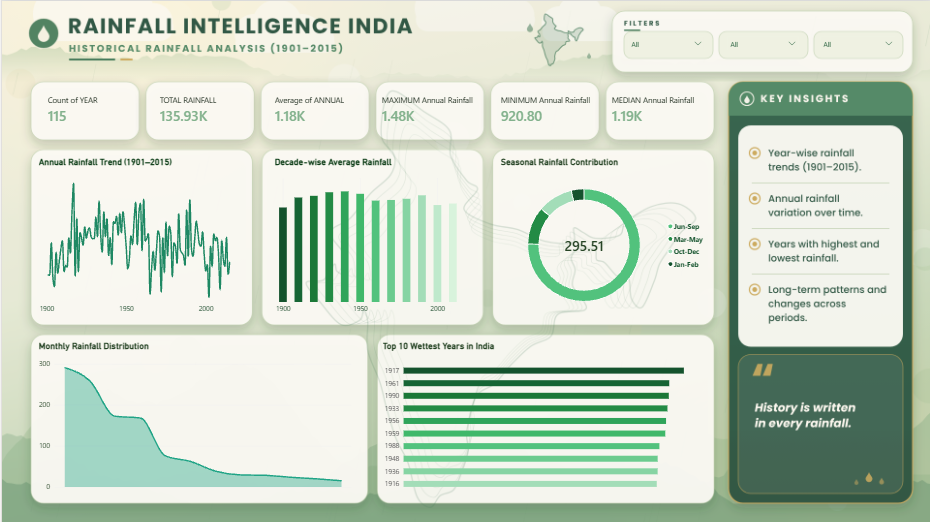

The page's visual inventory and layout, read from the dashboard file:
{"tool":"powerbi","page":{"name":"Historical Rainfall Intelligence","canvas":[1920,1080],"ordinal":1},"visuals":[{"type":"cardVisual","fields":{"Data":["Count(Historical_Rainfall_India.YEAR)"]},"box":[78.1,166.3,191.5,115.9],"z":0},{"type":"cardVisual","fields":{"Data":["Sum(Historical_Rainfall_India.ANNUAL)"]},"box":[309.9,166.3,191.5,115.9],"z":1000},{"type":"cardVisual","fields":{"Data":["Avg(Historical_Rainfall_India.ANNUAL)"]},"box":[546.8,166.3,191.5,115.9],"z":2000},{"type":"cardVisual","fields":{"Data":["Max(Historical_Rainfall_India.ANNUAL)"]},"box":[768.5,166.3,226.8,115.9],"z":3000},{"type":"cardVisual","fields":{"Data":["Min(Historical_Rainfall_India.ANNUAL)"]},"box":[1012.9,166.3,229.3,115.9],"z":4000},{"type":"cardVisual","fields":{"Data":["Median(Historical_Rainfall_India.ANNUAL)"]},"box":[1242.2,166.3,229.3,115.9],"z":5000},{"type":"lineChart","title":"Annual Rainfall Trend (1901–2015)","fields":{"Category":["Historical_Rainfall_India.YEAR"],"Y":["Avg(Historical_Rainfall_India.ANNUAL)"]},"box":[60.5,307.4,458.6,357.8],"z":6000},{"type":"clusteredColumnChart","title":"Decade-wise Average Rainfall","fields":{"Category":["Historical_Rainfall_India.Decade"],"Y":["Avg(Historical_Rainfall_India.ANNUAL)"]},"box":[546.8,307.4,448.5,357.8],"z":7000},{"type":"areaChart","title":"Monthly Rainfall Distribution","fields":{"Category":["Monthly_Rainfall.Month"],"Y":["Avg(Monthly_Rainfall.Monthly Rainfall)"]},"box":[60.5,687.9,677.8,342.7],"z":8000},{"type":"donutChart","title":"Seasonal Rainfall Contribution","fields":{"Category":["Seasonal_Rainfall.Season"],"Y":["Avg(Seasonal_Rainfall.Seasonal Rainfall)"]},"box":[1012.9,307.4,458.6,357.8],"z":9000},{"type":"clusteredBarChart","title":"Top 10 Wettest Years in India","fields":{"Category":["Seasonal_Rainfall.YEAR"],"Y":["Avg(Seasonal_Rainfall.ANNUAL)"]},"box":[771,687.9,700.5,342.7],"z":10000},{"type":"slicer","fields":{"Values":["Historical_Rainfall_India.YEAR"]},"box":[1287.6,68,166.3,52.9],"z":11000},{"type":"slicer","fields":{"Values":["Historical_Rainfall_India.Decade"]},"box":[1491.7,68,156.2,52.9],"z":12000},{"type":"slicer","fields":{"Values":["Monthly_Rainfall.Month"]},"box":[1685.7,68,163.8,52.9],"z":13000}]}

Visuals, with their boxes in screenshot pixels (x1, y1, x2, y2), scaled from the page's 1920x1080 canvas onto the 930x522 screenshot:
cardVisual - Count(Historical_Rainfall_India.YEAR): [x1=38, y1=80, x2=131, y2=136]
cardVisual - Sum(Historical_Rainfall_India.ANNUAL): [x1=150, y1=80, x2=243, y2=136]
cardVisual - Avg(Historical_Rainfall_India.ANNUAL): [x1=265, y1=80, x2=358, y2=136]
cardVisual - Max(Historical_Rainfall_India.ANNUAL): [x1=372, y1=80, x2=482, y2=136]
cardVisual - Min(Historical_Rainfall_India.ANNUAL): [x1=491, y1=80, x2=602, y2=136]
cardVisual - Median(Historical_Rainfall_India.ANNUAL): [x1=602, y1=80, x2=713, y2=136]
"Annual Rainfall Trend (1901–2015)" lineChart: [x1=29, y1=149, x2=251, y2=322]
"Decade-wise Average Rainfall" clusteredColumnChart: [x1=265, y1=149, x2=482, y2=322]
"Monthly Rainfall Distribution" areaChart: [x1=29, y1=332, x2=358, y2=498]
"Seasonal Rainfall Contribution" donutChart: [x1=491, y1=149, x2=713, y2=322]
"Top 10 Wettest Years in India" clusteredBarChart: [x1=373, y1=332, x2=713, y2=498]
slicer - Historical_Rainfall_India.YEAR: [x1=624, y1=33, x2=704, y2=58]
slicer - Historical_Rainfall_India.Decade: [x1=723, y1=33, x2=798, y2=58]
slicer - Monthly_Rainfall.Month: [x1=817, y1=33, x2=896, y2=58]
